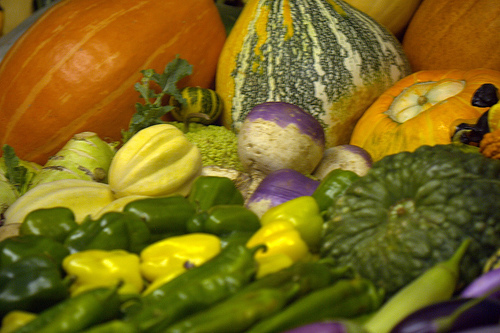turnip: (239, 104, 326, 204)
